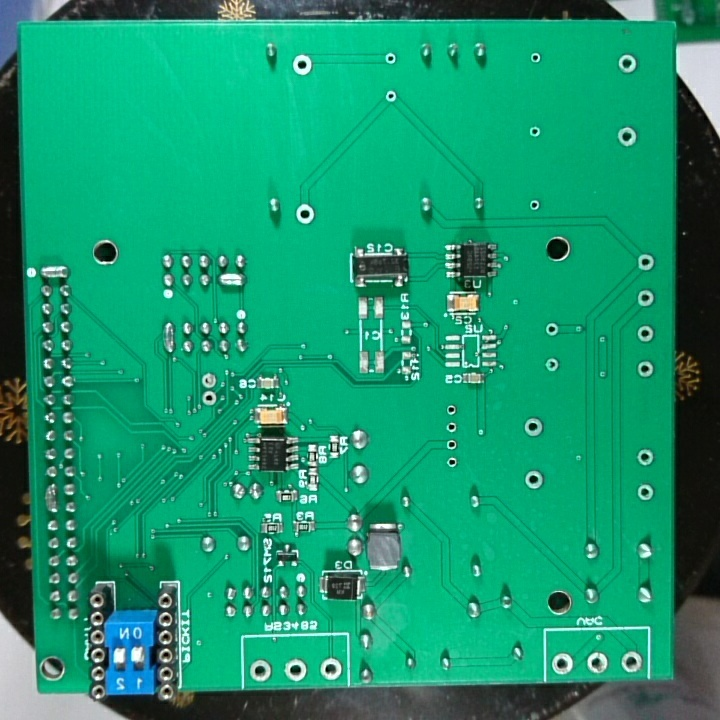F: (246, 657, 275, 686), (282, 656, 310, 685), (549, 650, 576, 678), (317, 654, 343, 683), (584, 649, 611, 676), (614, 123, 640, 150), (619, 649, 645, 676), (290, 52, 314, 80), (614, 52, 639, 78), (293, 201, 317, 226), (521, 415, 545, 440), (522, 467, 545, 492), (634, 446, 657, 469), (634, 250, 655, 275), (635, 288, 658, 310), (634, 323, 657, 345), (634, 481, 656, 504), (635, 358, 655, 380), (542, 355, 561, 375), (198, 389, 219, 407), (198, 372, 220, 389), (380, 88, 399, 107), (543, 320, 561, 340), (443, 418, 460, 436), (443, 437, 461, 454), (443, 400, 459, 419), (526, 123, 543, 140), (382, 49, 397, 68), (528, 49, 544, 66), (443, 454, 460, 470), (527, 197, 542, 215)
P: (37, 262, 72, 281), (213, 269, 246, 289), (42, 481, 59, 515), (161, 320, 175, 355)
